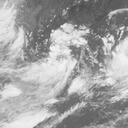cyclone: (27, 38, 73, 89), (112, 36, 127, 83)
